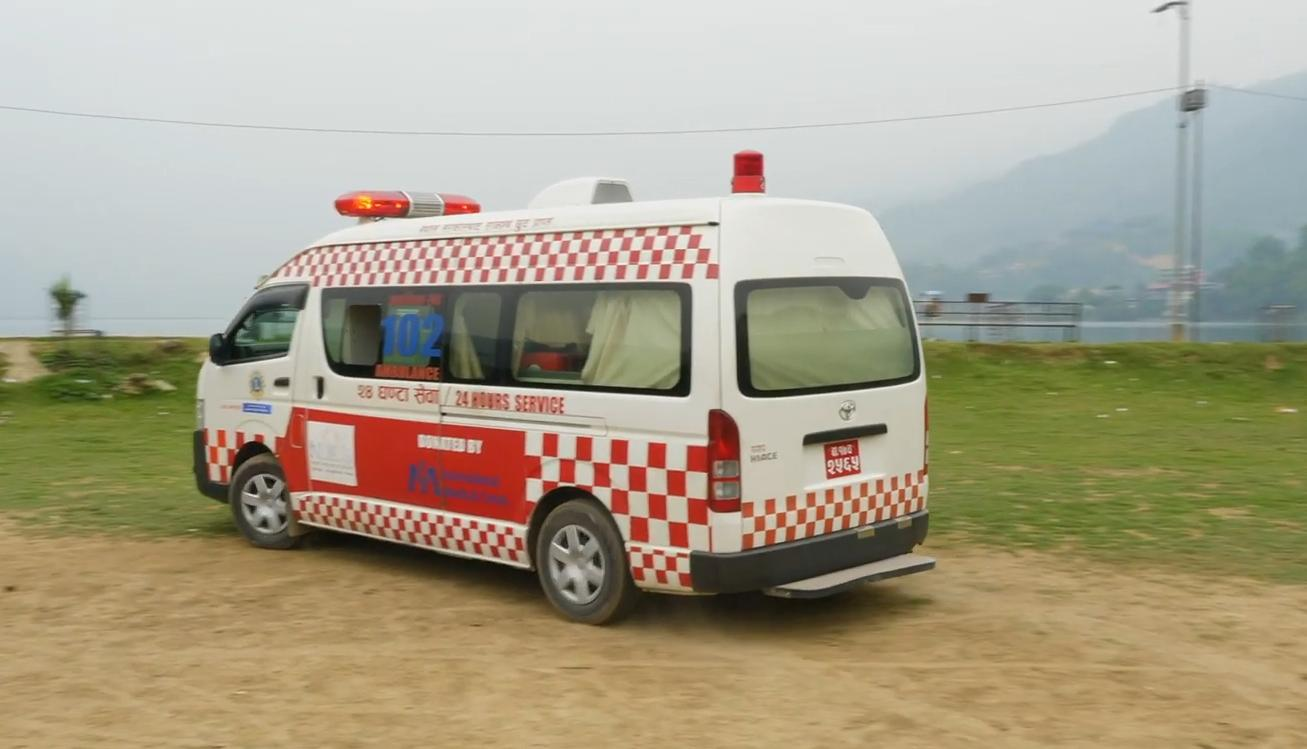ambulance: (176, 142, 960, 634)
